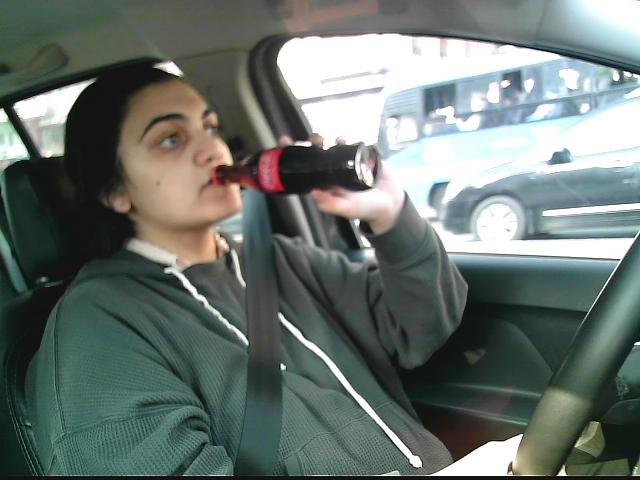Drinking: (102, 80, 391, 226)
